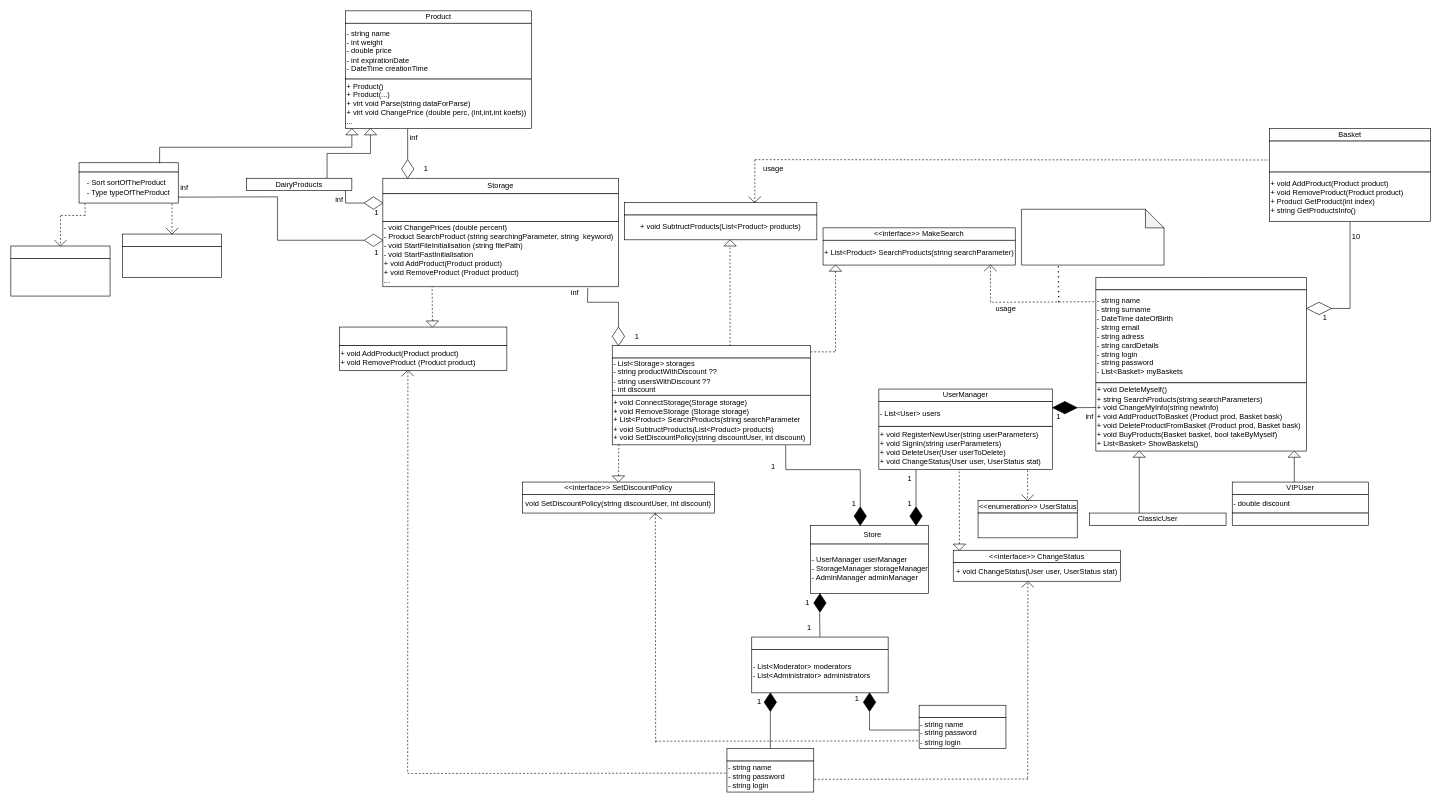
Image size: 1442x803. Some labels were removed from this diagram. The centre of each missing label's shape, as x and y in pixels:
+ void ContactManager(string message): (1300,518)
- List<Product> products - (int,int,int) koefs - bool isInitialised: (500,207)
- string nameOfBasket - List<Product> list: (1350,156)
<<abstract>> User: (1201,283)
<<enumeration>> Sort: (172,239)
<<enumeration>> Type: (60,251)
<<interface>> DeleteBoughtProducts: (720,208)
<<interface>> ModifyStorage: (423,336)
Administrator: (770,754)
AdminManager: (819,642)
Classic VIP: (1027,525)
First Second Greatest: (172,261)
MeatProduct: (128,167)
Moderator: (962,711)
StorageManager: (711,351)
Users can only access storage via 'MakeSearch' interface: (1092,237)
Veal Pork Chicken Lamb: (60,277)
